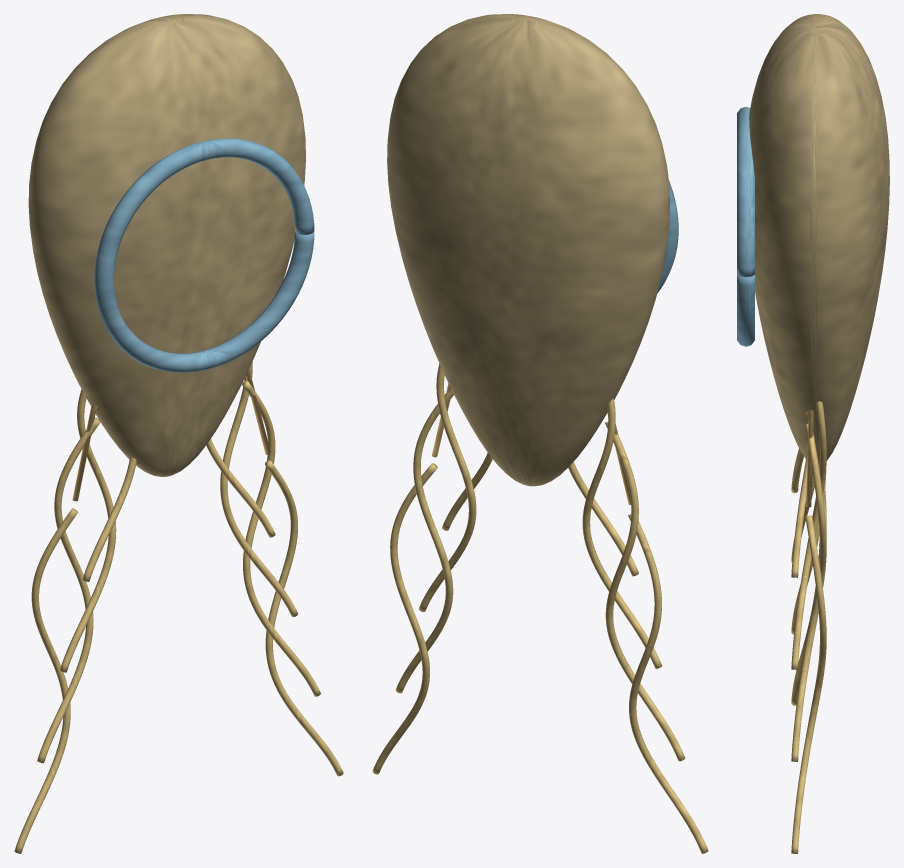
The model's file is complete.glb.
3 views of the same model, side by side, from view 1: azimuth 30°, elevation 25°; view 2: azimuth 150°, elevation 25°; view 3: azimuth 270°, elevation 25° (orthographic). The views are drawn at different scales.
Parts seen in each view (by area): view 1: membrana_mesh, flagelo_mesh, disco_mesh, axonemas_mesh; view 2: membrana_mesh, flagelo_mesh, disco_mesh; view 3: membrana_mesh, flagelo_mesh, disco_mesh, axonemas_mesh.
Part boxes in pixels (x1,y1,x2,y2): membrana_mesh: [28, 14, 305, 476]; flagelo_mesh: [14, 362, 343, 853]; disco_mesh: [94, 138, 314, 372]; axonemas_mesh: [72, 369, 270, 501]; membrana_mesh: [387, 14, 669, 486]; flagelo_mesh: [372, 364, 708, 853]; disco_mesh: [657, 180, 678, 292]; membrana_mesh: [749, 14, 889, 466]; flagelo_mesh: [791, 401, 826, 853]; disco_mesh: [737, 106, 754, 346]; axonemas_mesh: [806, 409, 813, 507].
Bounding box in the file's own units: 1.74 × 3.97 × 0.7313.
Materials: 6 (6 with a texture image).
